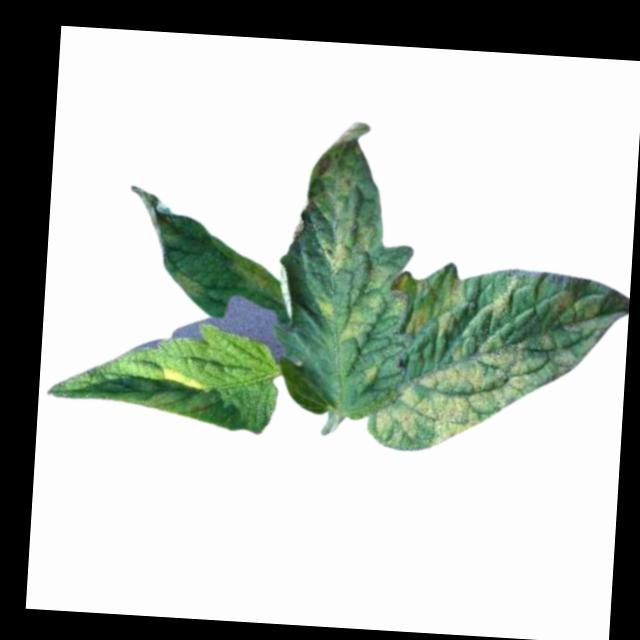Leaf_Mold: (365, 264, 629, 464), (300, 117, 384, 276), (314, 293, 372, 342), (161, 364, 209, 393), (165, 263, 203, 297)
